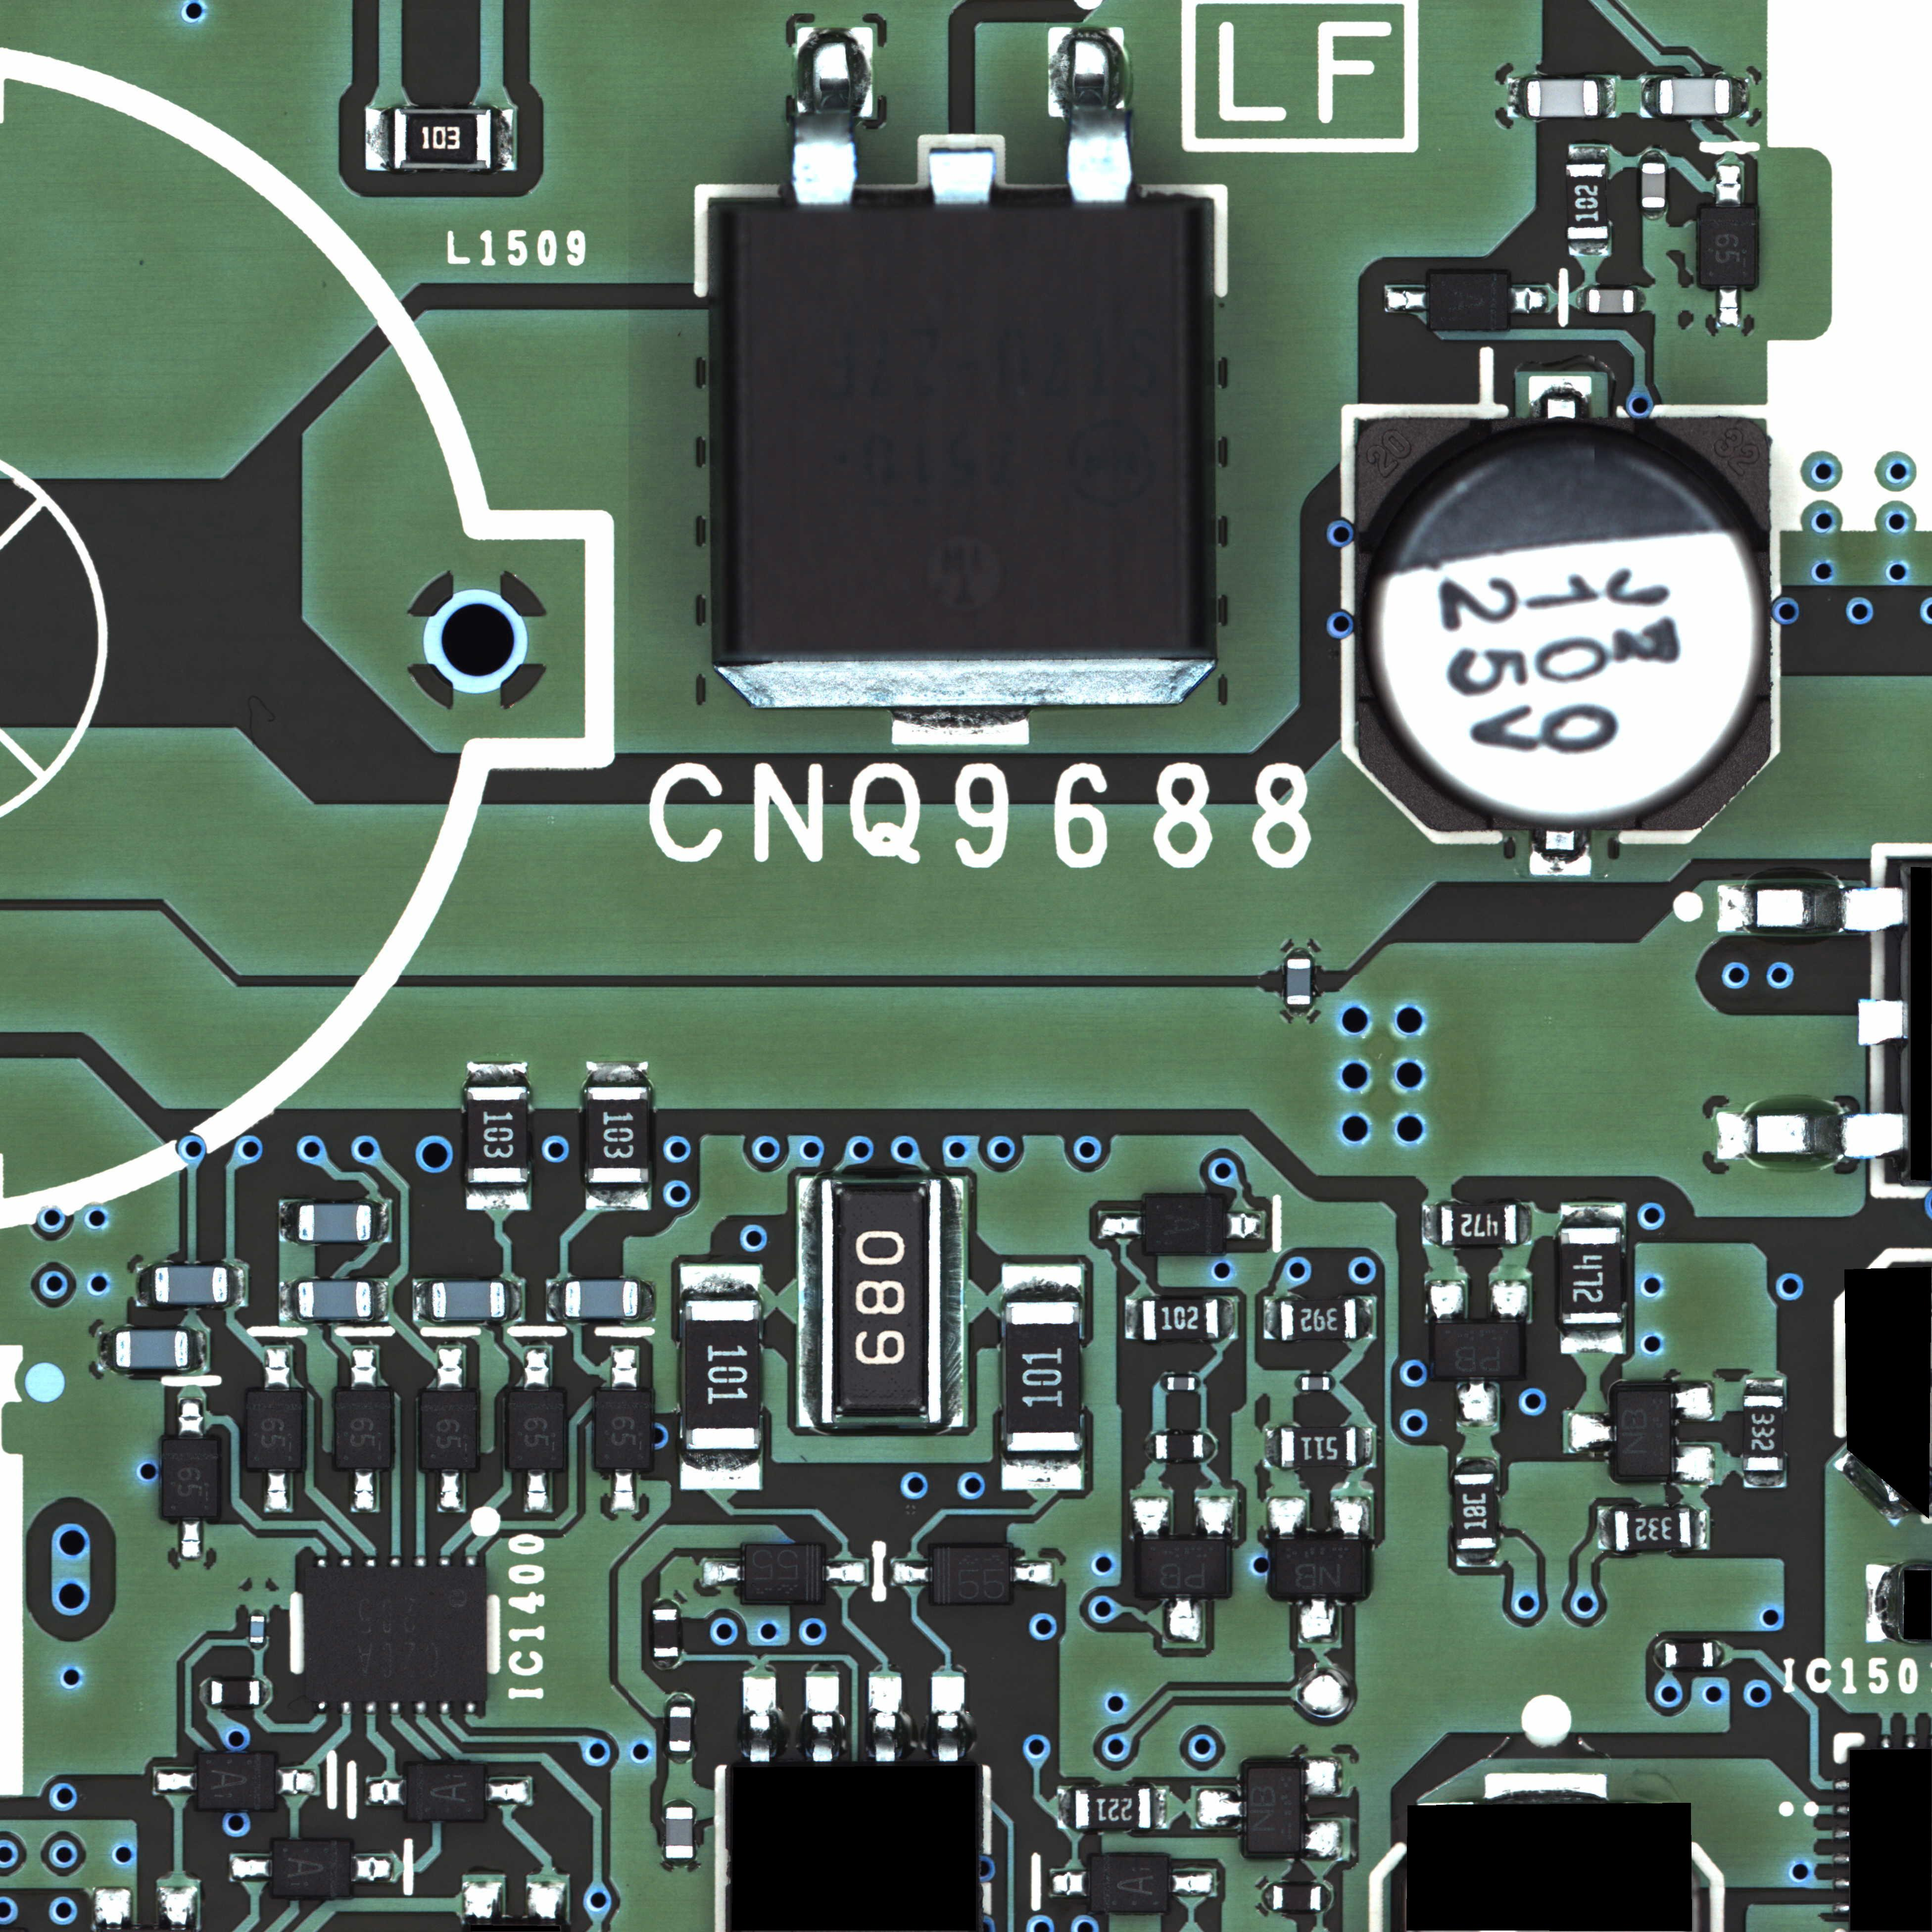Package: (713, 205, 1217, 706), (1357, 419, 1771, 832), (821, 1180, 941, 1422), (306, 1568, 485, 1702), (685, 1300, 757, 1449), (1007, 1302, 1079, 1451), (395, 108, 492, 170), (465, 1086, 527, 1184), (587, 1086, 649, 1184), (1560, 1228, 1621, 1323), (1138, 1539, 1226, 1594), (1617, 1391, 1672, 1476), (1276, 1541, 1362, 1594), (1247, 1767, 1300, 1854), (1433, 1323, 1518, 1376), (249, 1391, 304, 1468), (1430, 272, 1507, 327), (747, 1545, 821, 1601), (934, 1546, 1008, 1603), (163, 1440, 218, 1516), (421, 1392, 476, 1468), (508, 1392, 563, 1468), (1146, 1196, 1223, 1251), (198, 1753, 274, 1808), (274, 1840, 350, 1895), (409, 1764, 485, 1819), (1092, 1856, 1168, 1911), (338, 1391, 391, 1468), (598, 1392, 651, 1468), (1700, 209, 1753, 285), (1614, 1507, 1691, 1550), (1564, 165, 1608, 239), (1454, 1474, 1495, 1548), (1440, 1205, 1516, 1244), (1281, 1428, 1357, 1467), (1143, 1300, 1217, 1339), (1281, 1300, 1355, 1339), (1744, 1396, 1783, 1470), (1076, 1789, 1150, 1828), (154, 1267, 226, 1304), (115, 1330, 188, 1368), (299, 1281, 372, 1318), (432, 1281, 504, 1318), (299, 1205, 372, 1240), (566, 1281, 639, 1316), (1660, 80, 1730, 115), (1527, 81, 1598, 117), (665, 1808, 694, 1858), (1155, 1433, 1203, 1458), (1665, 1642, 1713, 1667), (211, 1681, 260, 1704), (653, 1610, 678, 1656), (1274, 1886, 1320, 1911), (1288, 959, 1311, 1005), (1642, 163, 1665, 209), (1589, 290, 1633, 313), (669, 1707, 692, 1750), (249, 1615, 264, 1644), (1168, 1376, 1194, 1391), (1302, 1376, 1329, 1391)
Solder: (1049, 27, 1134, 205), (793, 28, 874, 205), (1718, 885, 1904, 934), (1716, 1111, 1904, 1159), (1833, 1449, 1911, 1527), (798, 1178, 821, 1426), (941, 1178, 964, 1426), (892, 706, 1028, 747), (929, 149, 994, 205), (1486, 1773, 1608, 1801), (681, 1449, 761, 1490), (867, 1675, 904, 1760), (931, 1674, 966, 1762), (1001, 1451, 1081, 1490), (740, 1679, 777, 1762), (807, 1675, 842, 1762), (1001, 1265, 1081, 1302), (679, 1265, 761, 1300), (1529, 375, 1592, 419), (1529, 832, 1592, 876), (1867, 1562, 1900, 1644), (1858, 998, 1904, 1046), (1456, 1376, 1499, 1428), (1297, 1594, 1339, 1644), (1560, 1323, 1624, 1355), (1196, 1789, 1247, 1828), (1162, 1596, 1203, 1644), (1569, 1412, 1617, 1453), (1329, 1495, 1371, 1539), (1424, 1279, 1468, 1322), (156, 1886, 198, 1930), (366, 108, 395, 172), (1488, 1281, 1530, 1323), (1267, 1495, 1307, 1539), (1131, 1497, 1171, 1539), (1194, 1497, 1235, 1539), (1300, 1757, 1343, 1798), (1300, 1821, 1343, 1861), (1672, 1382, 1714, 1422), (464, 1879, 502, 1923), (467, 1184, 531, 1210), (586, 1184, 649, 1210), (1672, 1445, 1714, 1484), (586, 1062, 649, 1086), (94, 1886, 131, 1928), (467, 1062, 529, 1086), (527, 1882, 566, 1921), (1562, 1205, 1624, 1228), (492, 108, 513, 170), (264, 1468, 292, 1513), (435, 1346, 464, 1391), (1714, 165, 1743, 207), (350, 1348, 379, 1391), (610, 1348, 639, 1391), (274, 1767, 317, 1796), (364, 1778, 407, 1806), (264, 1346, 290, 1391), (524, 1468, 550, 1513), (350, 1854, 395, 1881), (485, 1780, 529, 1806), (1507, 287, 1548, 315), (177, 1398, 203, 1440), (524, 1348, 550, 1391), (1224, 1210, 1263, 1238), (1099, 1214, 1146, 1237), (179, 1516, 203, 1560), (352, 1468, 377, 1513), (612, 1468, 637, 1513), (823, 1560, 867, 1585), (154, 1769, 198, 1794), (1168, 1872, 1214, 1895), (1716, 285, 1741, 327), (437, 1468, 462, 1511), (702, 1560, 745, 1585), (890, 1560, 932, 1585), (1010, 1560, 1053, 1585), (1385, 288, 1430, 311), (1049, 1870, 1090, 1895), (230, 1858, 272, 1881), (1507, 76, 1527, 119), (1730, 78, 1750, 119), (1640, 78, 1660, 119), (1568, 145, 1608, 165), (278, 1279, 297, 1320), (1123, 1299, 1143, 1339), (1056, 1787, 1076, 1828), (412, 1281, 432, 1320), (228, 1263, 246, 1306), (97, 1329, 115, 1369), (189, 1329, 207, 1369), (136, 1263, 154, 1304), (280, 1201, 297, 1242), (372, 1201, 389, 1242), (1263, 1299, 1281, 1339), (1150, 1789, 1168, 1829), (1456, 1456, 1497, 1474), (1598, 78, 1615, 117), (1569, 239, 1608, 257), (547, 1281, 564, 1320), (1219, 1299, 1235, 1341), (1357, 1299, 1373, 1341), (1424, 1203, 1440, 1246), (639, 1279, 655, 1320), (1691, 1509, 1707, 1550), (1598, 1509, 1614, 1550), (1456, 1550, 1497, 1566), (506, 1281, 522, 1320), (1357, 1428, 1373, 1467), (1744, 1470, 1783, 1486), (1265, 1430, 1281, 1467), (1746, 1378, 1783, 1394), (373, 1281, 387, 1322), (1518, 1205, 1532, 1246), (667, 1752, 694, 1766), (1576, 287, 1589, 313), (1203, 1433, 1215, 1460), (1143, 1433, 1155, 1460), (198, 1681, 211, 1707), (1640, 150, 1665, 163), (1642, 209, 1667, 221), (1633, 288, 1645, 313), (1288, 1005, 1313, 1017), (667, 1693, 692, 1706), (1652, 1642, 1665, 1667), (1288, 947, 1311, 959), (653, 1658, 679, 1668), (260, 1679, 271, 1706), (1714, 1642, 1725, 1668), (1322, 1886, 1332, 1911), (653, 1598, 678, 1608), (665, 1859, 694, 1868), (1261, 1886, 1272, 1909), (1833, 1877, 1849, 1891), (665, 1799, 694, 1806), (1904, 1734, 1918, 1748), (1833, 1902, 1849, 1914), (1833, 1852, 1849, 1865), (1833, 1828, 1849, 1840), (1833, 1803, 1849, 1815), (1833, 1778, 1849, 1790), (1879, 1736, 1893, 1748), (1159, 1375, 1168, 1391), (1293, 1375, 1302, 1391), (1329, 1375, 1338, 1391), (315, 1557, 327, 1568), (340, 1557, 352, 1568), (364, 1557, 377, 1568), (389, 1557, 402, 1568), (414, 1557, 426, 1568), (441, 1557, 453, 1568), (465, 1557, 478, 1568), (315, 1702, 327, 1713), (340, 1702, 352, 1713), (364, 1702, 377, 1713), (389, 1702, 402, 1713), (414, 1702, 426, 1713), (439, 1702, 451, 1713), (465, 1702, 478, 1713), (249, 1644, 265, 1651), (1194, 1376, 1201, 1391), (249, 1610, 264, 1615)
